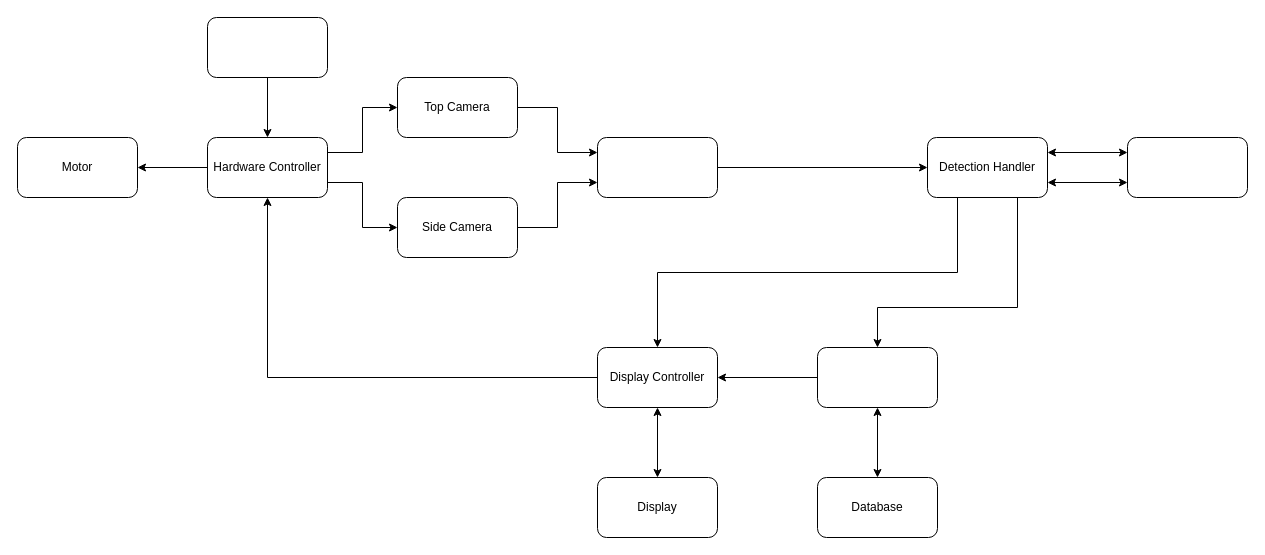
This 1265x555 diagram has some shape labels left out. Each missing label, with the centre of its shape:
"Database Handler" goes at pixel 877 377.
"Detection Model(s)" goes at pixel 1187 167.
"Hardware Data Controller" goes at pixel 657 167.
"Weight sensor" goes at pixel 267 47.
